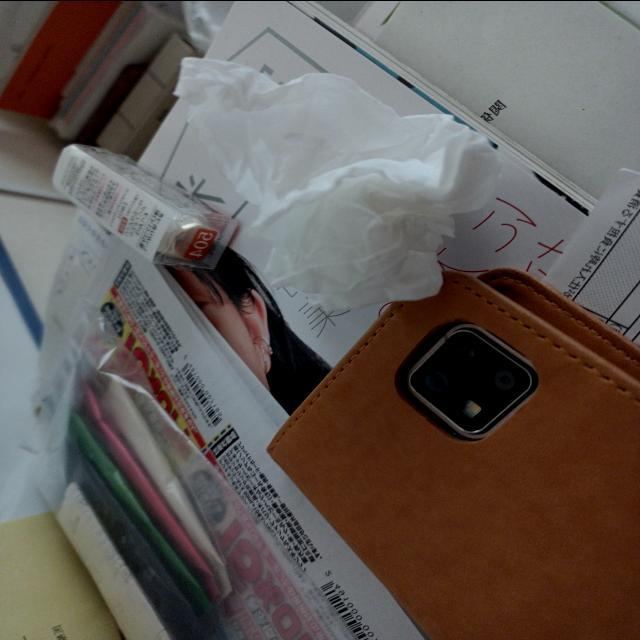Paper: (142, 52, 468, 298)
